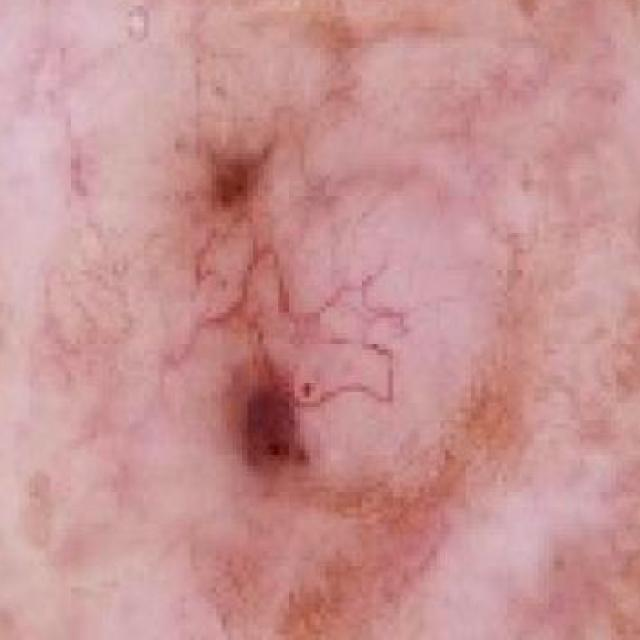BCC: (76, 0, 640, 640)
